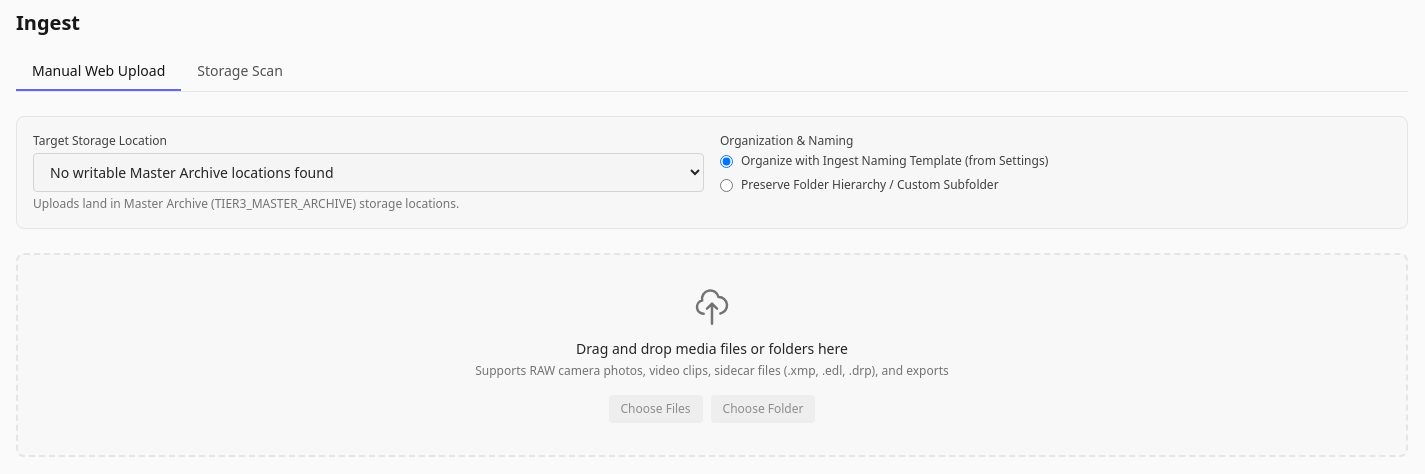
IngestPage › switches to Storage Scan tab and lists locations in the picker
Click the tab "Storage Scan" at {"x": 240, "y": 72}, box [181,53,299,91]
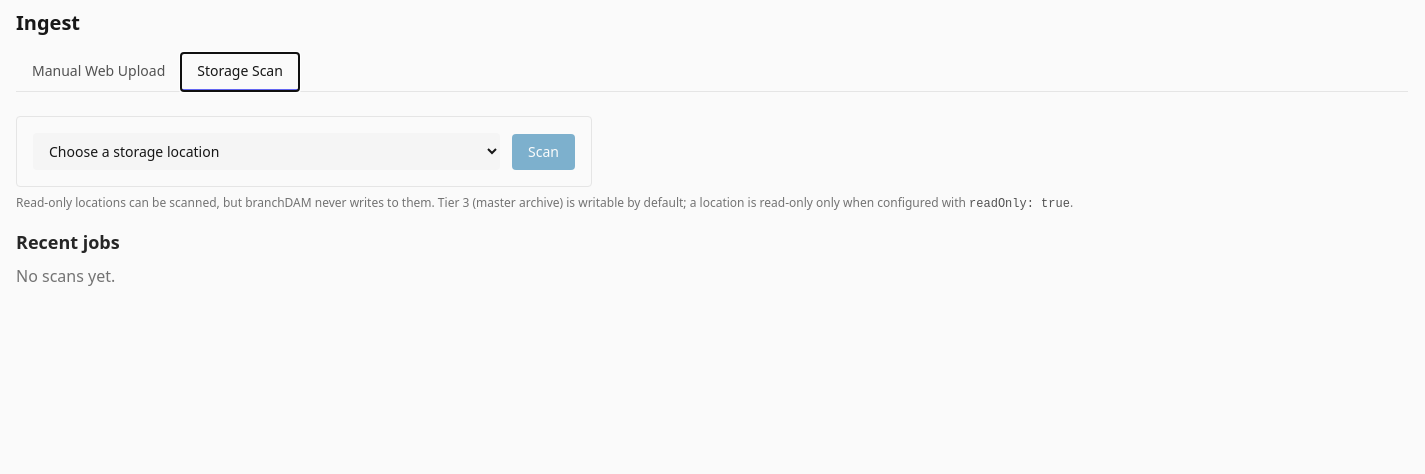
Expected: the dropdown is shown, [33,133,500,170]
Expected: the text "Read-only locations" is shown, [16,194,966,211]
